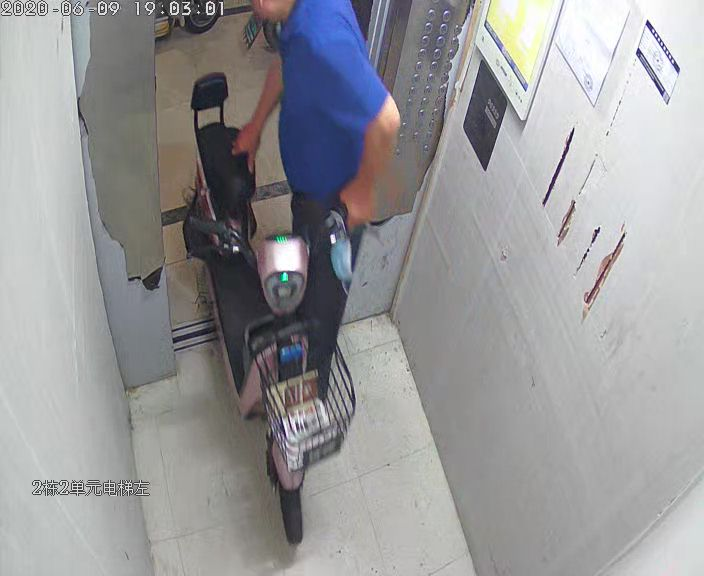Electric-bicycle: (188, 74, 356, 543)
